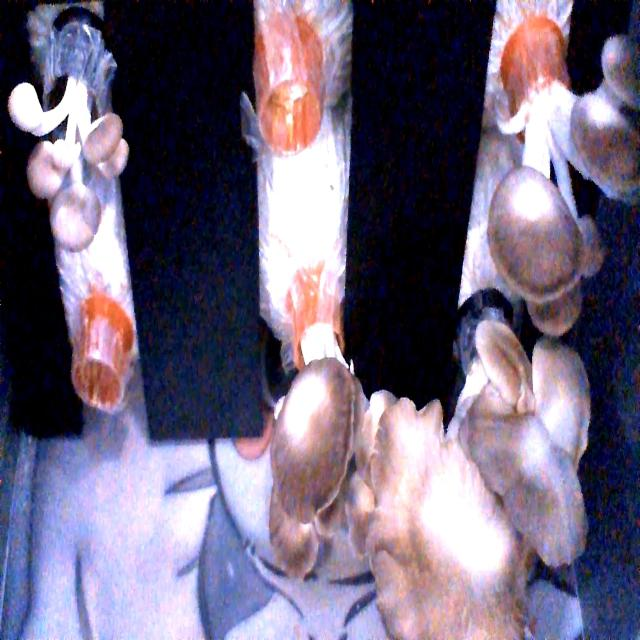big: (365, 299, 598, 640), (485, 25, 640, 342), (264, 330, 416, 580)
nfound: (259, 52, 333, 171), (59, 326, 139, 420)
small: (4, 58, 135, 238)
